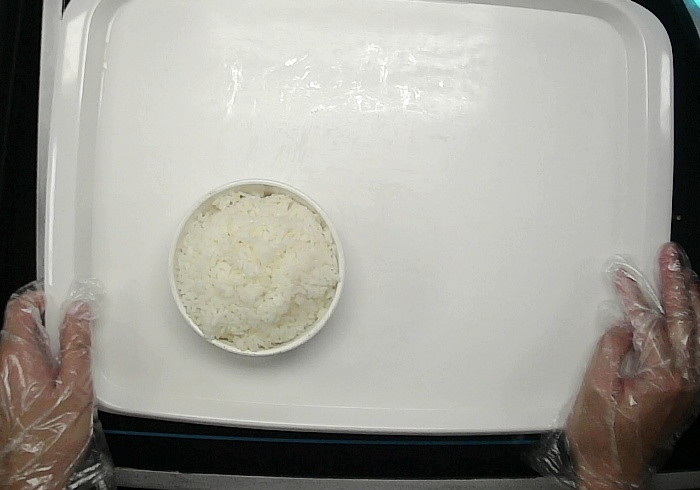HZYJPL-Fan_Wan: (169, 178, 346, 357)
